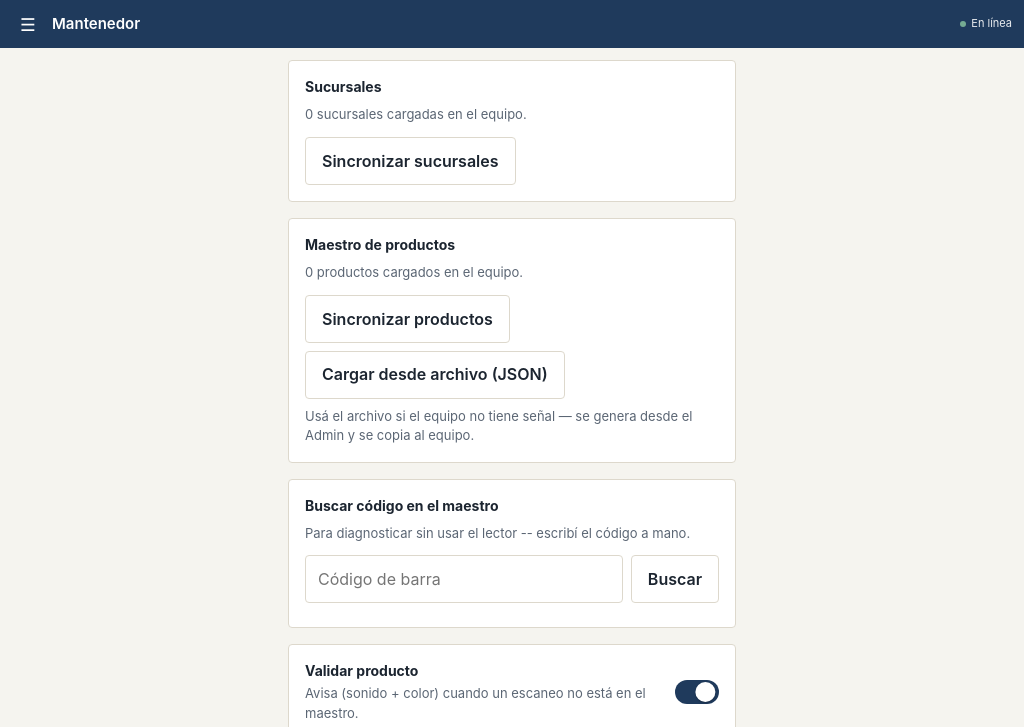
Scenario: MantenedorPage › muestra un error si la sincronizacion de sucursales con el servidor falla
Click the button "Sincronizar sucursales" at (410, 161), box [305,137,516,185]
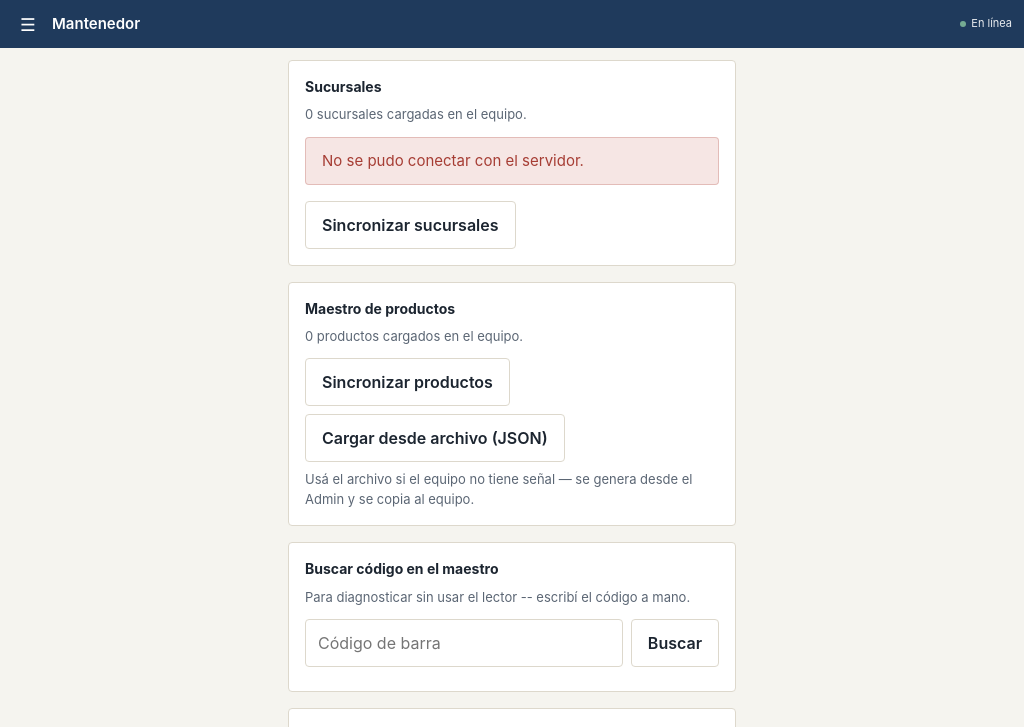
Expected: the message reads "No se pudo conectar con el servidor.", [322,151,584,170]
